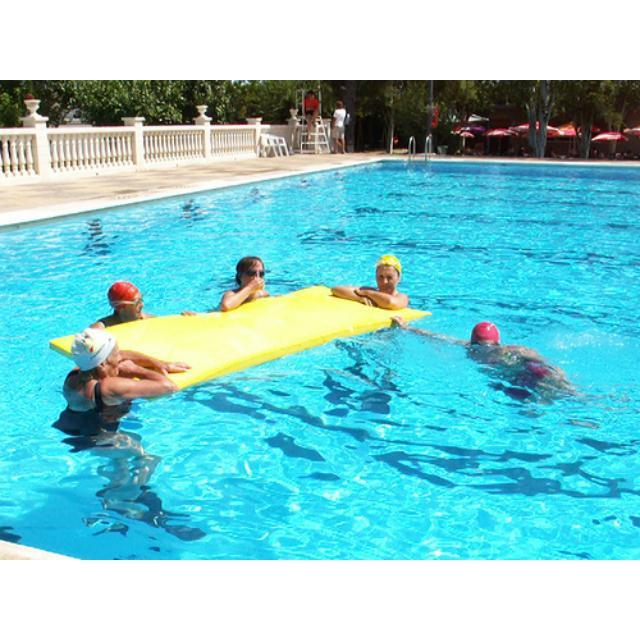human: (58, 328, 174, 457), (466, 319, 569, 411), (332, 252, 413, 312), (90, 277, 150, 326), (219, 256, 270, 311)
